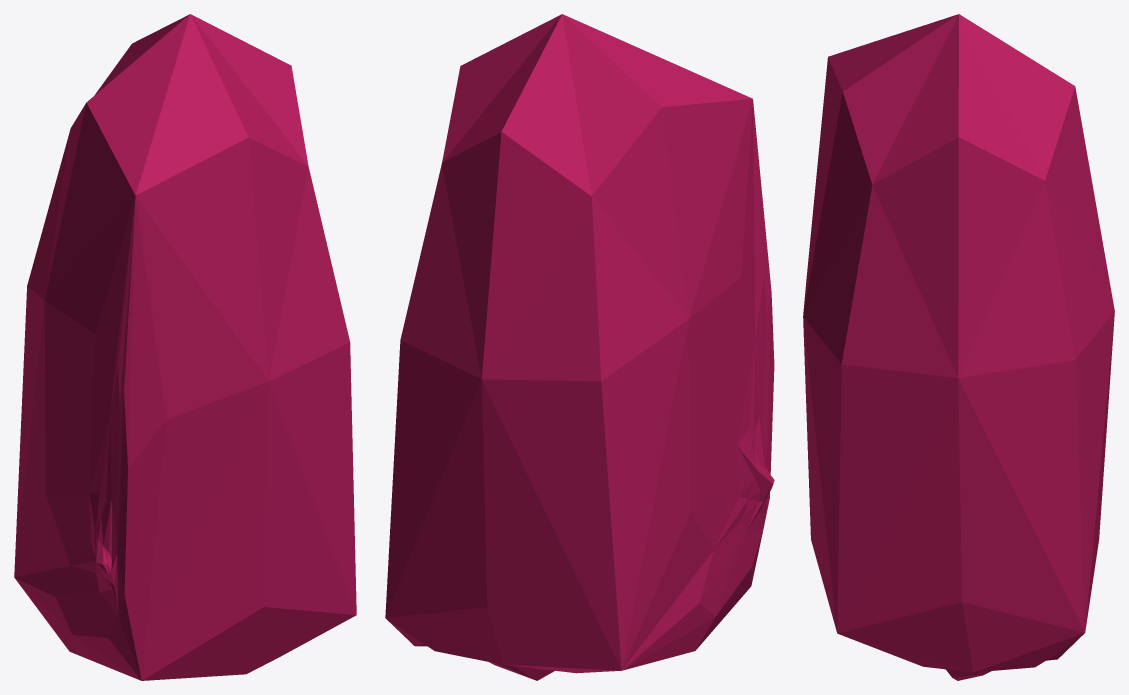
3 views of the same model, side by side, from view 1: azimuth 30°, elevation 25°; view 2: azimuth 150°, elevation 25°; view 3: azimuth 270°, elevation 25° (orthographic). The views are drawn at different scales.
Parts seen in each view (by area): view 1: 511_Cube.2066; view 2: 511_Cube.2066; view 3: 511_Cube.2066.
Boxes of the visible parts, x1,y1,x2,y2 form: 511_Cube.2066: (14, 14, 356, 680); 511_Cube.2066: (385, 14, 774, 680); 511_Cube.2066: (803, 14, 1114, 680).
Bounding box in the file's own units: 5.83 × 12.98 × 5.63.
